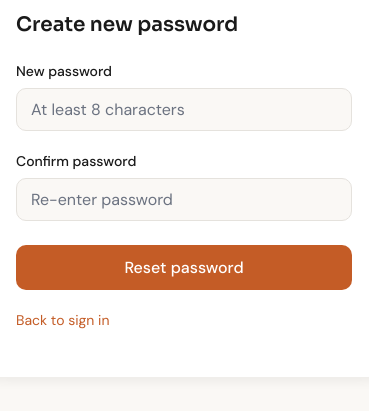
ResetPasswordForm › validates password confirmation match
The width and height of the screenshot is (369, 411).
Type "newpassword123" into the password field labelled "New password". click: (184, 110)
box: [16,88,352,131]
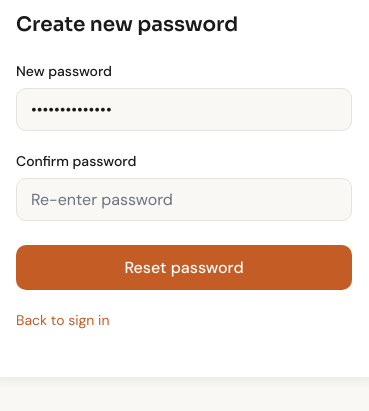
Type "differentpassword" into the password field labelled "Confirm password". click: (184, 200)
box: [16,178,352,221]
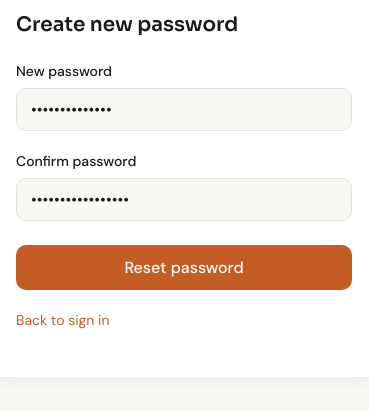
Click the button "Reset password". click: (184, 268)
box: [16,245,352,290]
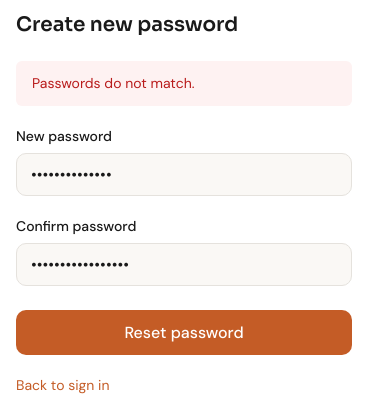
expect the text "Passwords do not match." is shown: met, box [16,61,352,106]
